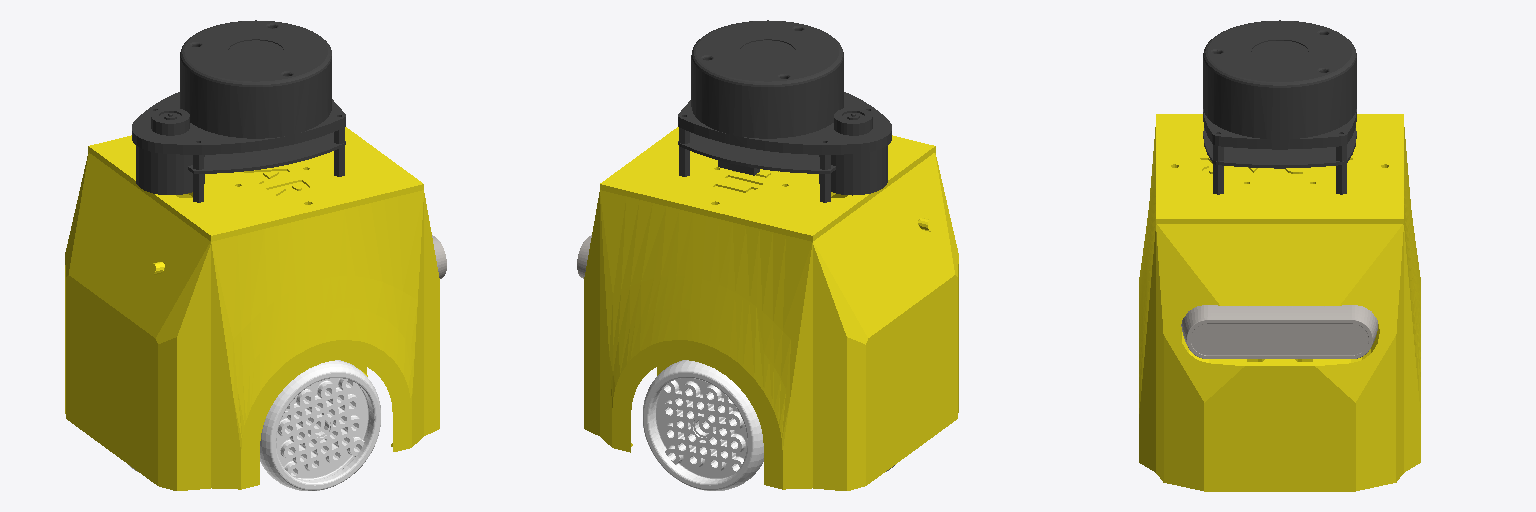
robot.urdf — sentinel:
<?xml version="1.0" encoding="utf-8"?>
<!-- This URDF was automatically created by SolidWorks to URDF Exporter! Originally created by [author] ([email redacted]) 
     Commit Version: 1.6.0-4-g7f85cfe  Build Version: 1.6.7995.38578
     For more information, please see http://wiki.ros.org/sw_urdf_exporter -->
<robot
  name="sentinel">
  <link
    name="base_link">
    <inertial>
      <origin
        xyz="-0.00105760737631283 -2.19032190874277E-05 0.0255202576150771"
        rpy="0 0 0" />
      <mass
        value="0.316163168273078" />
      <inertia
        ixx="0.000625135781292764"
        ixy="-2.93764633305647E-06"
        ixz="1.91503476533365E-06"
        iyy="0.000872141508316583"
        iyz="3.17766970761198E-07"
        izz="0.00105492627973741" />
    </inertial>
    <visual>
      <origin
        xyz="0 0 0"
        rpy="0 0 0" />
      <geometry>
        <mesh
          filename="package://sentinel/meshes/base_link.STL" />
      </geometry>
      <material
        name="">
        <color
          rgba="1 0.937254901960784 0.137254901960784 1" />
      </material>
    </visual>
    <collision>
      <origin
        xyz="0 0 0"
        rpy="0 0 0" />
      <geometry>
        <mesh
          filename="package://sentinel/meshes/base_link.STL" />
      </geometry>
    </collision>
  </link>
  <link
    name="Left_wheel_link">
    <inertial>
      <origin
        xyz="-4.1176E-10 3.0207E-11 0.0042086"
        rpy="0 0 0" />
      <mass
        value="0.023896" />
      <inertia
        ixx="7.625E-06"
        ixy="-4.7831E-15"
        ixz="-5.6353E-15"
        iyy="7.6248E-06"
        iyz="-4.5111E-16"
        izz="1.4592E-05" />
    </inertial>
    <visual>
      <origin
        xyz="0 0 0"
        rpy="0 0 0" />
      <geometry>
        <mesh
          filename="package://sentinel/meshes/Left_wheel_link.STL" />
      </geometry>
      <material
        name="">
        <color
          rgba="1 1 1 1" />
      </material>
    </visual>
    <collision>
      <origin
        xyz="0 0 0"
        rpy="0 0 0" />
      <geometry>
        <mesh
          filename="package://sentinel/meshes/Left_wheel_link.STL" />
      </geometry>
    </collision>
  </link>
  <joint
    name="Left_wheel_joint"
    type="continuous">
    <origin
      xyz="-0.00023583 0.052 -0.012"
      rpy="-1.5708 -0.71575 0" />
    <parent
      link="base_link" />
    <child
      link="Left_wheel_link" />
    <axis
      xyz="0 0 1" />
    <limit
      effort="100"
      velocity="100" />
    <dynamics
      friction="0.1" />
  </joint>
  <link
    name="Right_wheel_link">
    <inertial>
      <origin
        xyz="4.1176E-10 3.0207E-11 -0.011709"
        rpy="0 0 0" />
      <mass
        value="0.023896" />
      <inertia
        ixx="7.625E-06"
        ixy="4.7831E-15"
        ixz="-5.6353E-15"
        iyy="7.6248E-06"
        iyz="4.5111E-16"
        izz="1.4592E-05" />
    </inertial>
    <visual>
      <origin
        xyz="0 0 0"
        rpy="0 0 0" />
      <geometry>
        <mesh
          filename="package://sentinel/meshes/Right_wheel_link.STL" />
      </geometry>
      <material
        name="">
        <color
          rgba="1 1 1 1" />
      </material>
    </visual>
    <collision>
      <origin
        xyz="0 0 0"
        rpy="0 0 0" />
      <geometry>
        <mesh
          filename="package://sentinel/meshes/Right_wheel_link.STL" />
      </geometry>
    </collision>
  </link>
  <joint
    name="Right_wheel_joint"
    type="continuous">
    <origin
      xyz="-0.00023583 -0.0445 -0.012"
      rpy="-1.5708 -0.91629 0" />
    <parent
      link="base_link" />
    <child
      link="Right_wheel_link" />
    <axis
      xyz="0 0 1" />
    <limit
      effort="100"
      velocity="100" />
    <dynamics
      friction="0.1" />
  </joint>
  <link
    name="Deep_camera_link">
    <inertial>
      <origin
        xyz="-0.0042251 0.0032378 -0.0020974"
        rpy="0 0 0" />
      <mass
        value="0.048201" />
      <inertia
        ixx="2.7391E-05"
        ixy="-4.2599E-07"
        ixz="7.5493E-09"
        iyy="3.3506E-06"
        iyz="2.1161E-09"
        izz="2.6652E-05" />
    </inertial>
    <visual>
      <origin
        xyz="0 0 0"
        rpy="0 0 0" />
      <geometry>
        <mesh
          filename="package://sentinel/meshes/Deep_camera_link.STL" />
      </geometry>
      <material
        name="">
        <color
          rgba="0.77647 0.75686 0.73725 1" />
      </material>
    </visual>
    <collision>
      <origin
        xyz="0 0 0"
        rpy="0 0 0" />
      <geometry>
        <mesh
          filename="package://sentinel/meshes/Deep_camera_link.STL" />
      </geometry>
    </collision>
  </link>
  <joint
    name="Deep_camera_joint"
    type="fixed">
    <origin
      xyz="0.067909 -0.0033318 0.047549"
      rpy="0 0 0" />
    <parent
      link="base_link" />
    <child
      link="Deep_camera_link" />
    <axis
      xyz="0 0 0" />
    <limit
      lower="0"
      upper="0"
      effort="0"
      velocity="0" />
  </joint>
  <link
    name="Lidar_link">
    <inertial>
      <origin
        xyz="-0.0067683 9.1777E-05 -0.0073879"
        rpy="0 0 0" />
      <mass
        value="1.3304" />
      <inertia
        ixx="0.00061474"
        ixy="-8.0027E-07"
        ixz="-0.00015819"
        iyy="0.0009605"
        iyz="3.096E-06"
        izz="0.0010981" />
    </inertial>
    <visual>
      <origin
        xyz="0 0 0"
        rpy="0 0 0" />
      <geometry>
        <mesh
          filename="package://sentinel/meshes/Lidar_link.STL" />
      </geometry>
      <material
        name="">
        <color
          rgba="0.29804 0.29804 0.29804 1" />
      </material>
    </visual>
    <collision>
      <origin
        xyz="0 0 0"
        rpy="0 0 0" />
      <geometry>
        <mesh
          filename="package://sentinel/meshes/Lidar_link.STL" />
      </geometry>
    </collision>
  </link>
  <joint
    name="Lidar_joint"
    type="fixed">
    <origin
      xyz="-0.00023583 0 0.13965"
      rpy="0 0 0" />
    <parent
      link="base_link" />
    <child
      link="Lidar_link" />
    <axis
      xyz="0 0 0" />
  </joint>
  <link
    name="Front_wheel_Link">
    <inertial>
      <origin
        xyz="6.9389E-18 0 -6.997E-18"
        rpy="0 0 0" />
      <mass
        value="0.0027985" />
      <inertia
        ixx="1.0504E-07"
        ixy="5.2972E-40"
        ixz="-3.709E-24"
        iyy="1.0504E-07"
        iyz="4.6008E-24"
        izz="6.747E-08" />
    </inertial>
    <visual>
      <origin
        xyz="0 0 0"
        rpy="0 0 0" />
      <geometry>
        <mesh
          filename="package://sentinel/meshes/Front_wheel_Link.STL" />
      </geometry>
      <material
        name="">
        <color
          rgba="0.75294 0.75294 0.75294 1" />
      </material>
    </visual>
    <collision>
      <origin
        xyz="0 0 0"
        rpy="0 0 0" />
      <geometry>
        <mesh
          filename="package://sentinel/meshes/Front_wheel_Link.STL" />
      </geometry>
    </collision>
  </link>
  <joint
    name="Front_wheel_Joint"
    type="continuous">
    <origin
      xyz="0.034514 0 -0.0359"
      rpy="-1.5708 0 0" />
    <parent
      link="base_link" />
    <child
      link="Front_wheel_Link" />
    <axis
      xyz="0 0 1" />
    <limit
      effort="100"
      velocity="100" />
    <dynamics
      friction="0.1" />
  </joint>
  <link
    name="Rear_wheel_Link">
    <inertial>
      <origin
        xyz="-6.9389E-18 2.0817E-17 6.2414E-18"
        rpy="0 0 0" />
      <mass
        value="0.0027985" />
      <inertia
        ixx="1.0504E-07"
        ixy="0"
        ixz="5.8782E-25"
        iyy="1.0504E-07"
        iyz="-4.9349E-24"
        izz="6.747E-08" />
    </inertial>
    <visual>
      <origin
        xyz="0 0 0"
        rpy="0 0 0" />
      <geometry>
        <mesh
          filename="package://sentinel/meshes/Rear_wheel_Link.STL" />
      </geometry>
      <material
        name="">
        <color
          rgba="0.75294 0.75294 0.75294 1" />
      </material>
    </visual>
    <collision>
      <origin
        xyz="0 0 0"
        rpy="0 0 0" />
      <geometry>
        <mesh
          filename="package://sentinel/meshes/Rear_wheel_Link.STL" />
      </geometry>
    </collision>
  </link>
  <joint
    name="Rear_wheel_Joint"
    type="continuous">
    <origin
      xyz="-0.060236 0 -0.0359"
      rpy="1.5708 0 0" />
    <parent
      link="base_link" />
    <child
      link="Rear_wheel_Link" />
    <axis
      xyz="0 0 1" />
    <limit
      effort="100"
      velocity="100" />
    <dynamics
      friction="0.1" />
  </joint>
</robot>

--- Render facts (derived) ---
Views: 3 orthographic renders of the robot side by side, from view 1: azimuth 30°, elevation 25°; view 2: azimuth 150°, elevation 25°; view 3: azimuth 270°, elevation 25°.
Model sentinel with 7 links and 6 joints (4 continuous, 2 fixed), rooted at base_link, posed every joint at zero.
Visible links, largest first — view 1: base_link, Lidar_link, Right_wheel_link; view 2: base_link, Lidar_link, Left_wheel_link; view 3: base_link, Lidar_link, Deep_camera_link.
Link boxes in pixels (<box>): base_link: <box>65,127,439,490</box>; Lidar_link: <box>132,20,345,202</box>; Right_wheel_link: <box>260,360,380,490</box>; base_link: <box>584,127,958,490</box>; Lidar_link: <box>678,20,891,202</box>; Left_wheel_link: <box>643,360,763,490</box>; base_link: <box>1139,114,1420,491</box>; Lidar_link: <box>1203,20,1356,194</box>; Deep_camera_link: <box>1181,305,1377,358</box>.
Bounding box of the posed robot: 0.1532 × 0.129 × 0.1986 m (x, y, z).
Meshes: 7 distinct files referenced, 7 mesh visuals loaded (7 binary STL).